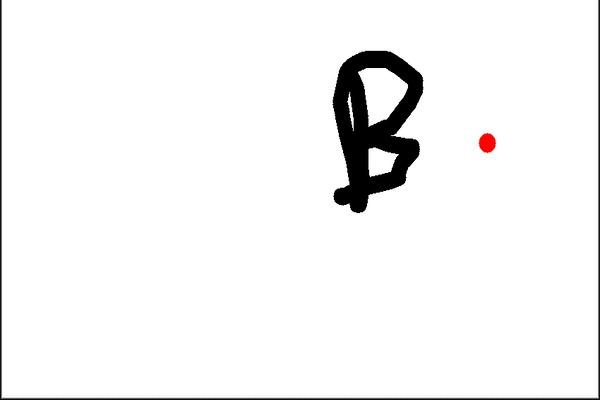B: (319, 43, 434, 217)
